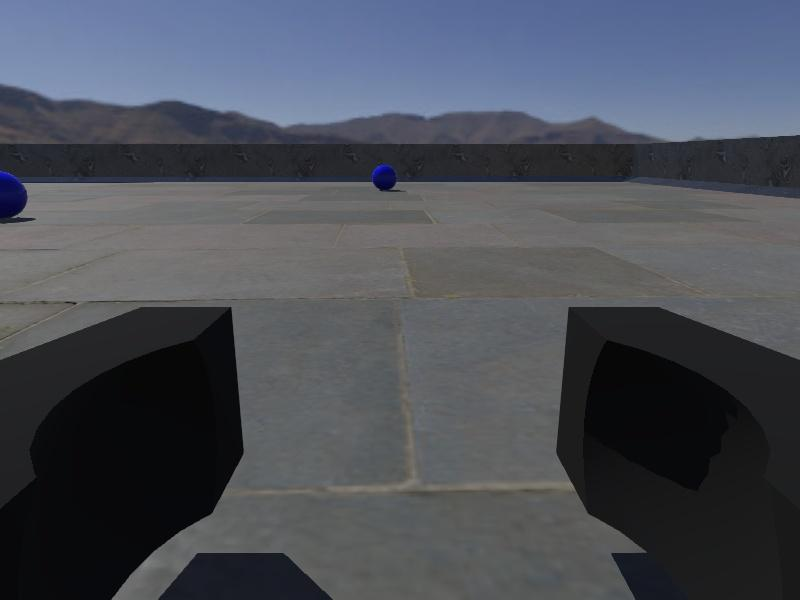blue ball: (372, 163, 398, 192)
